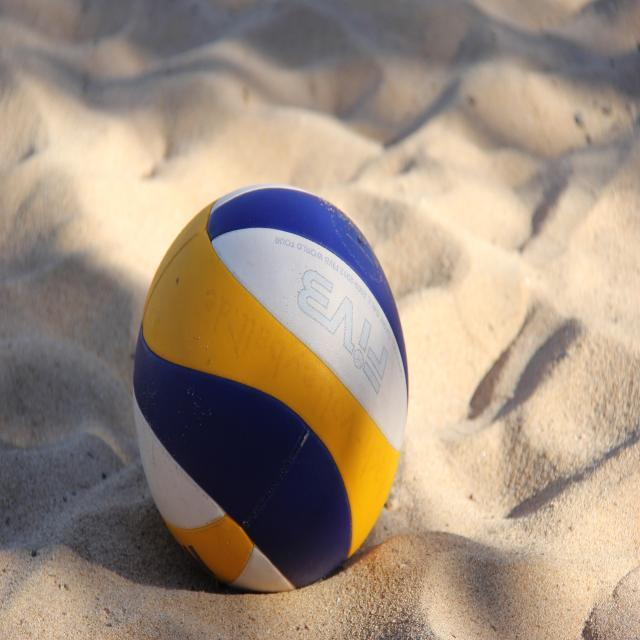volleyball: (132, 183, 409, 592)
